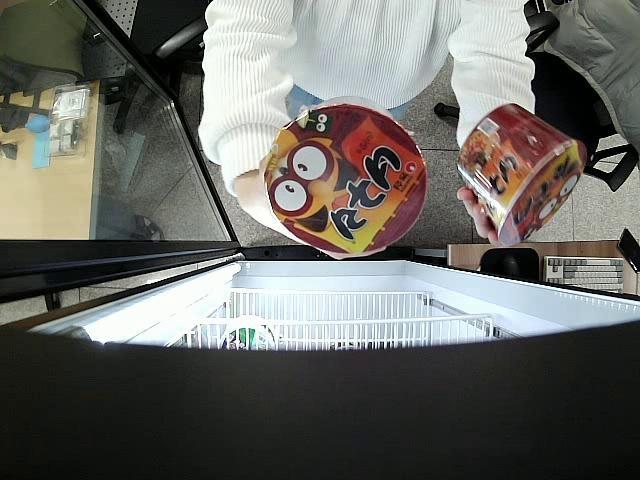05_nuguri_L: (264, 99, 428, 262), (457, 102, 590, 244)
